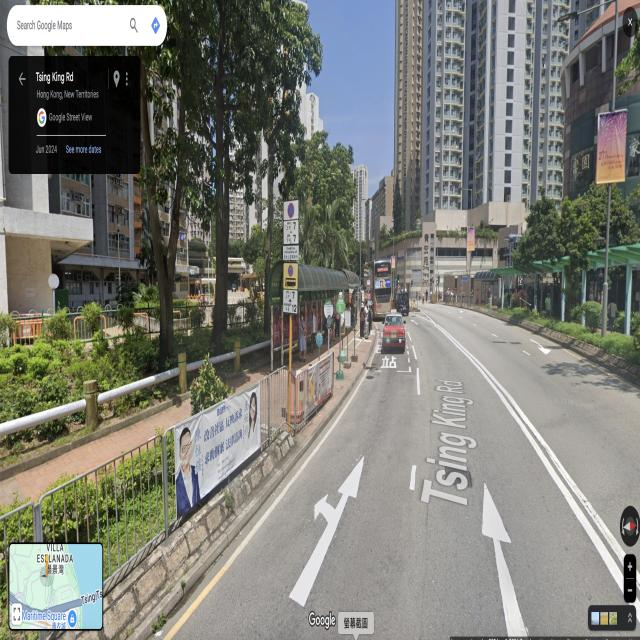Order-Sign: (283, 263, 298, 315), (283, 200, 299, 245), (283, 245, 299, 260)
